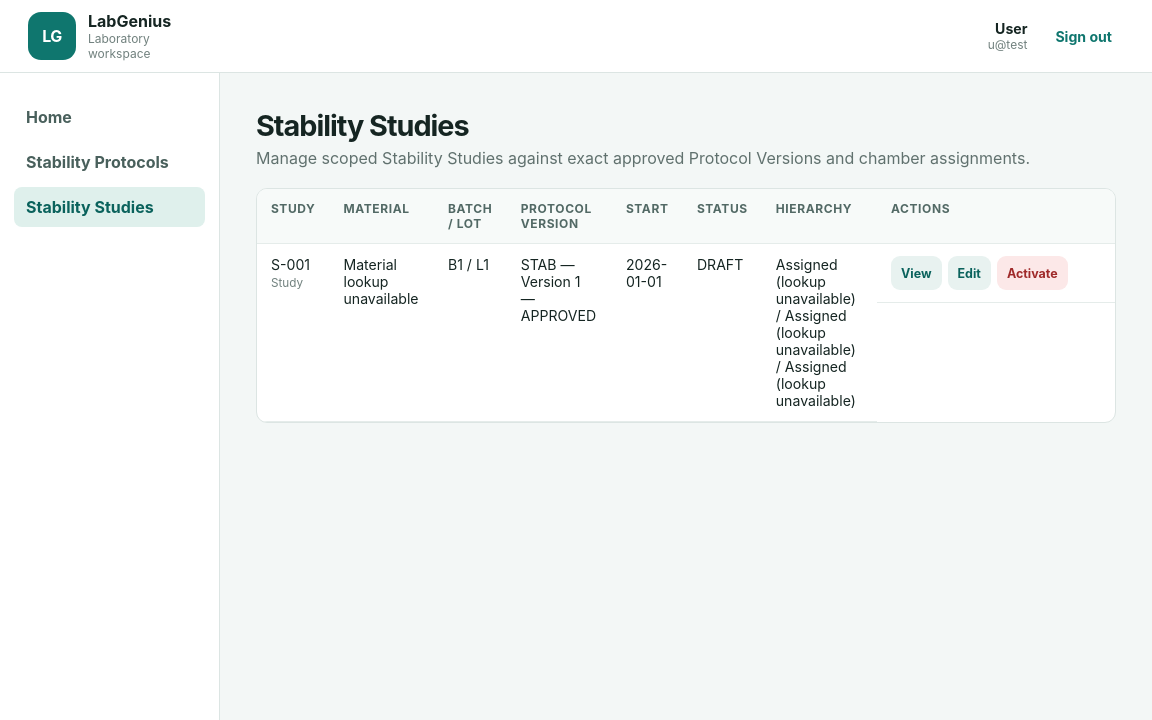
Scenario: shows human-readable chamber assignments and draft lifecycle controls
The width and height of the screenshot is (1152, 720).
Step 1. Click the button "View" → (916,273), box [891,256,942,290]
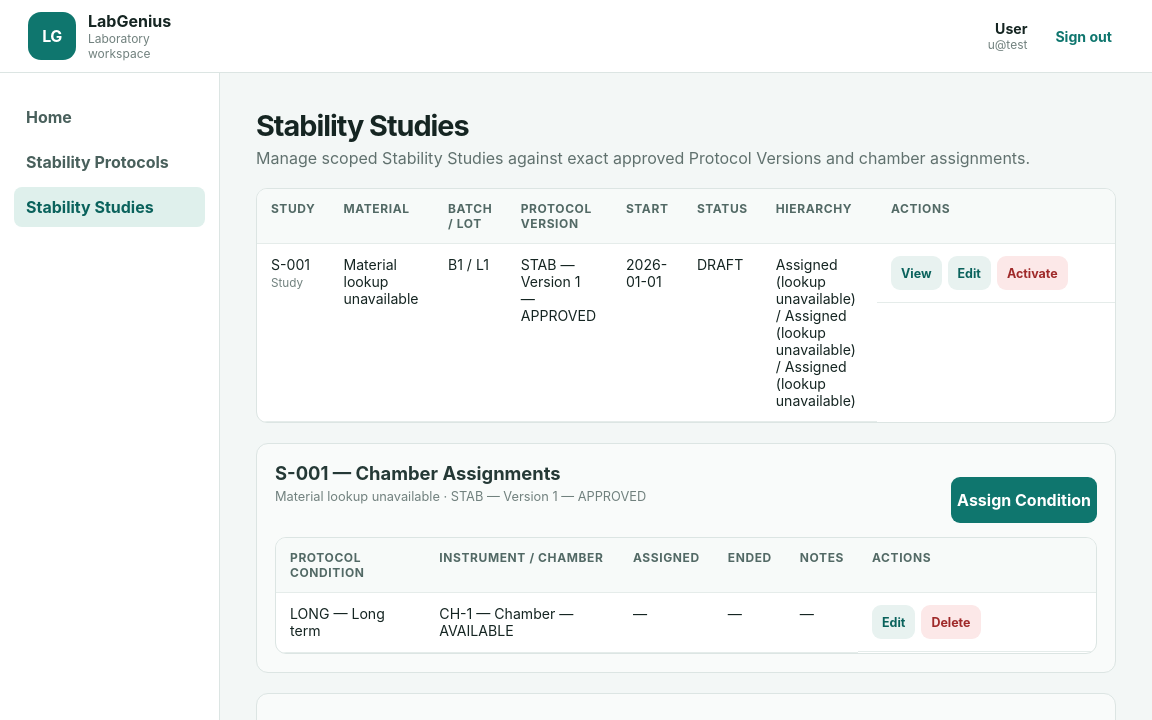
Expected: the text "LONG — Long term" is shown, [276,593,425,652]
Expected: the text "CH-1 — Chamber — AVAILABLE" is shown, [425,593,619,652]
Expected: the button "Assign Condition" is shown, [951,477,1097,523]
